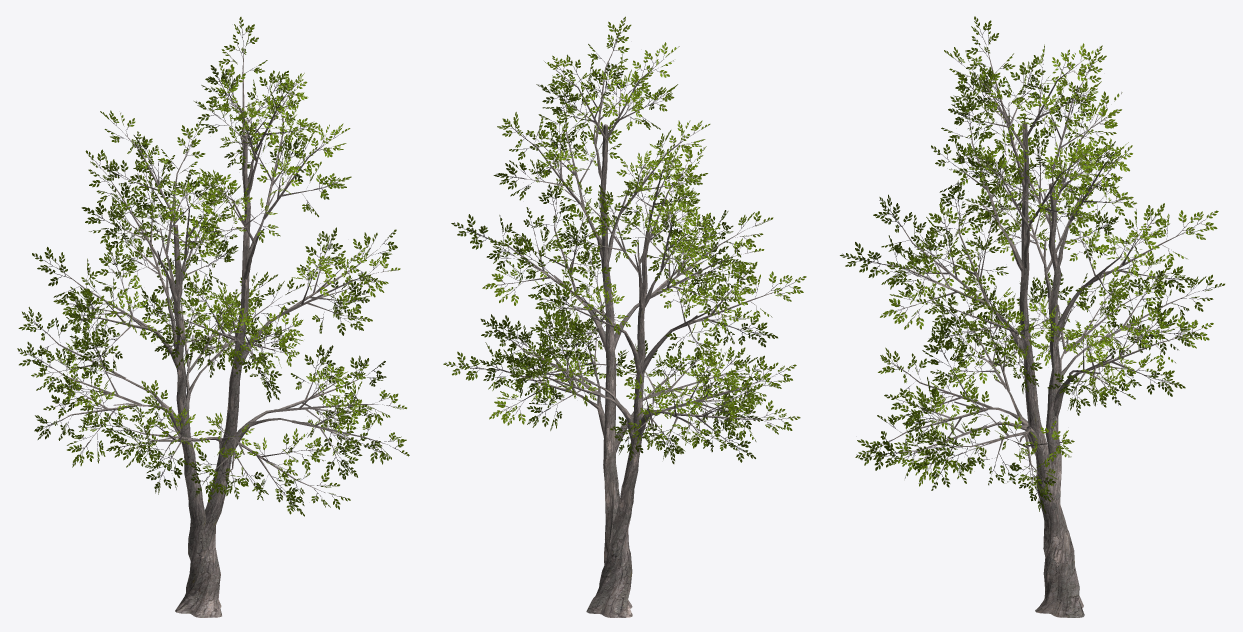
The model's file is tree_elm.glb.
3 renders of one model, left to right at view 1: azimuth 30°, elevation 25°; view 2: azimuth 150°, elevation 25°; view 3: azimuth 270°, elevation 25°, orthographic. The views are drawn at different scales.
Visible parts, largest first — view 1: m; view 2: m; view 3: m.
Part boxes in pixels (<box>): m: <box>17,17,409,617</box>; m: <box>443,16,806,617</box>; m: <box>840,16,1224,617</box>.
Size of the model in its own units: 0.6724 by 1 by 0.6035.
Materials: 2 (2 with a texture image).
